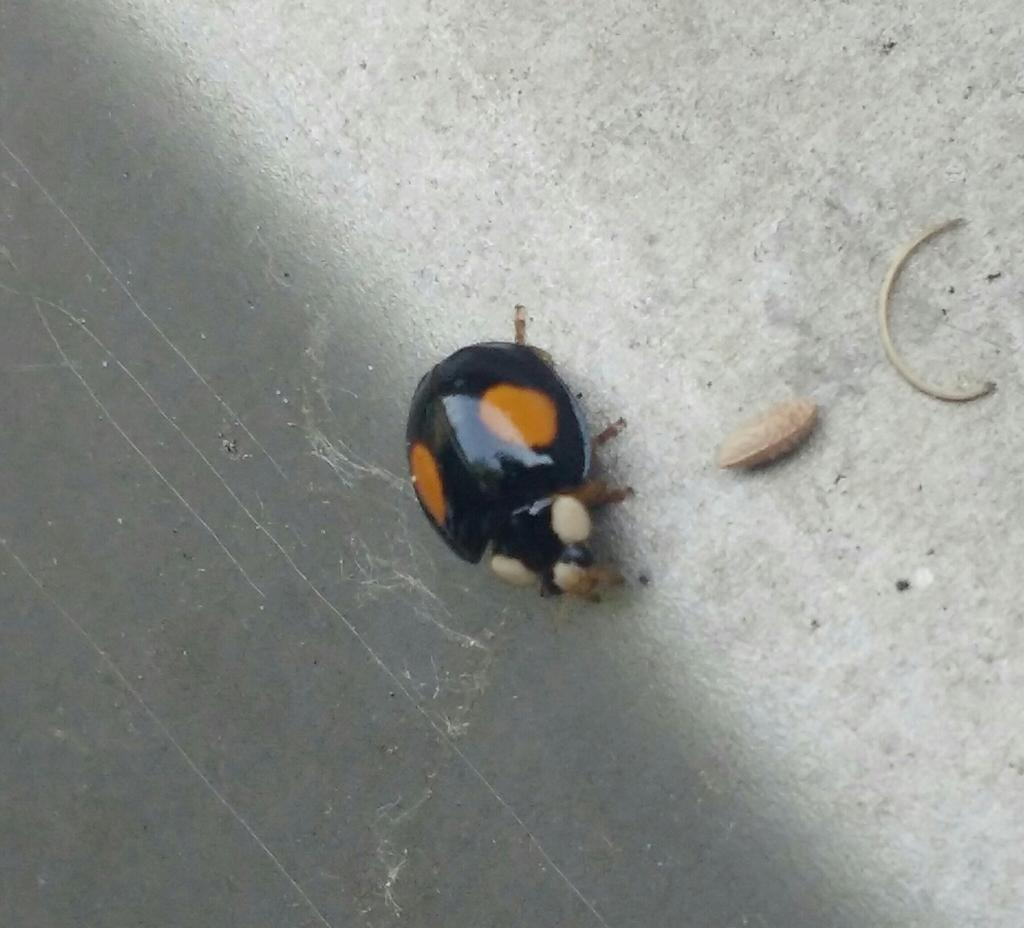ladybug: (401, 296, 646, 614)
